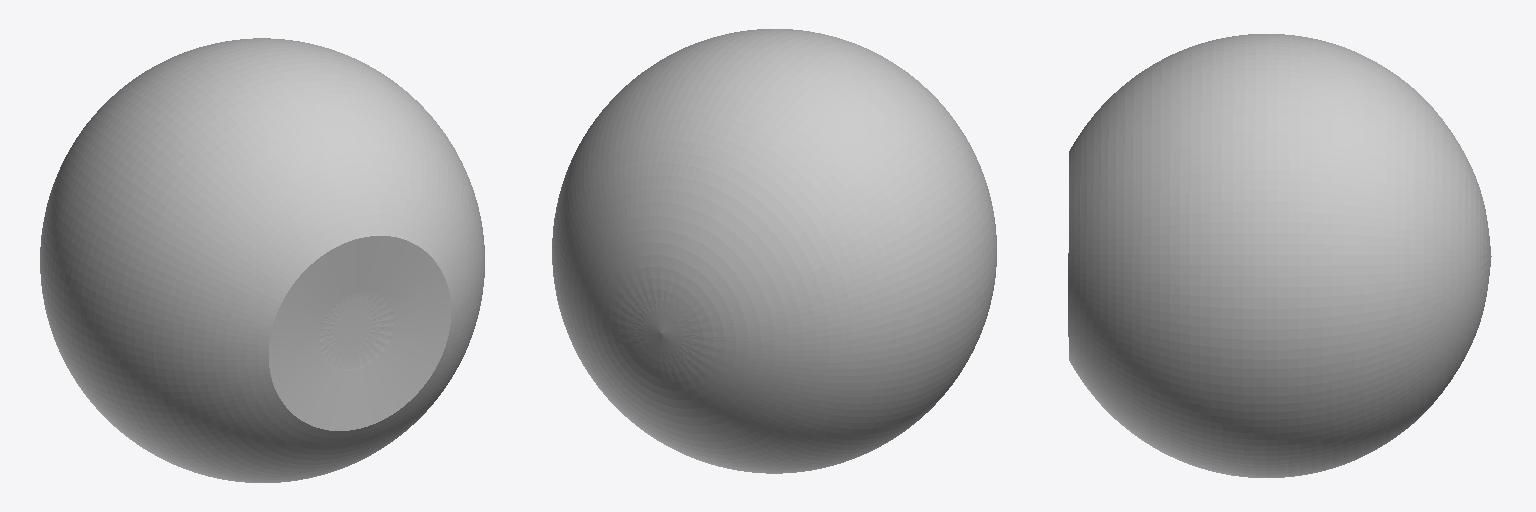
File: eyeball.obj
3 renders of one model, left to right at view 1: azimuth 30°, elevation 25°; view 2: azimuth 150°, elevation 25°; view 3: azimuth 270°, elevation 25°, orthographic.
Parts seen in each view (by area): view 1: eyeball_1_eye_1, eyeball_1.002_eye_1.002, eyeball_1.001_eye_1.001; view 2: eyeball_1_eye_1; view 3: eyeball_1_eye_1.
Boxes of the visible parts, <box> form: eyeball_1_eye_1: <box>40,38,484,482</box>; eyeball_1.002_eye_1.002: <box>269,236,450,430</box>; eyeball_1.001_eye_1.001: <box>320,292,393,370</box>; eyeball_1_eye_1: <box>552,29,996,473</box>; eyeball_1_eye_1: <box>1068,34,1491,477</box>.
Bounding box in the file's own units: 3.86 × 3.86 × 3.67.